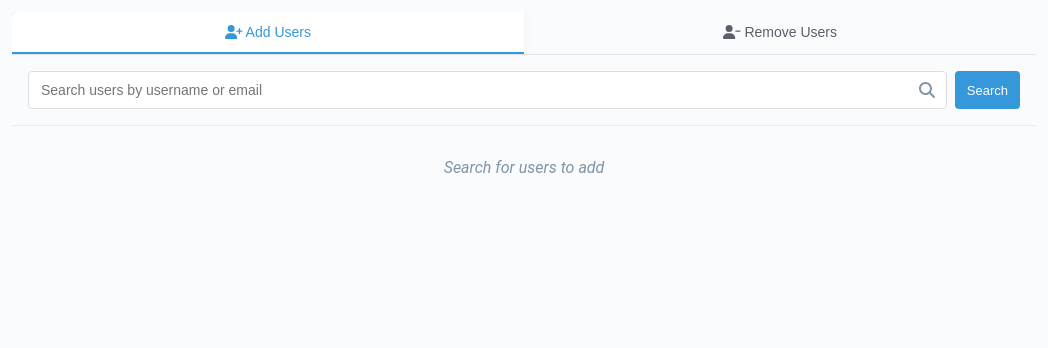
ManageCollaborators Component › shows error message when adding collaborator fails
The image size is (1048, 348).
// Type in search term and submit search
In the field with placeholder "Search users by username or email": (487, 90) [28,71,947,109], type "test"
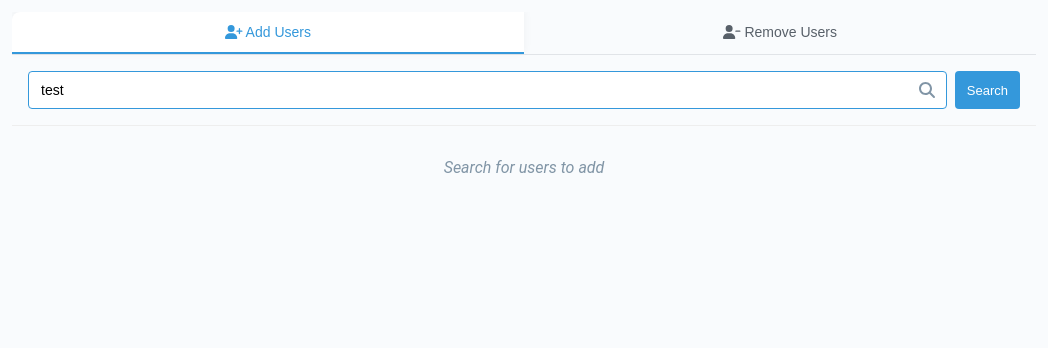
Click the button "Search": (987, 90) [955,71,1020,109]
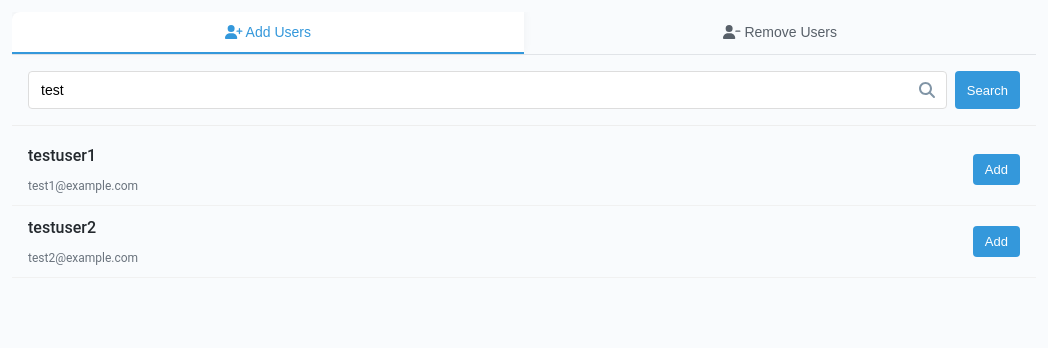
Expected: the text "testuser1" is shown, [28,146,96,165]
// Click add button
Click the button "Add" in the row of "test1@example.com": (996, 170) [973,154,1020,185]
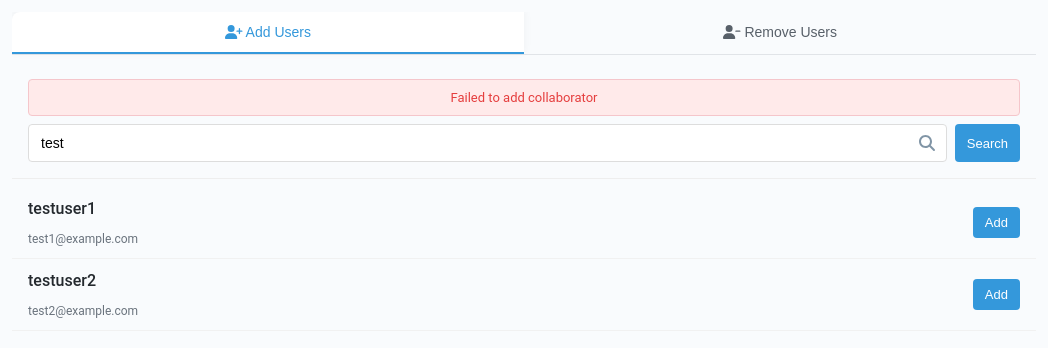
Expected: the text "Failed to add collaborator" is shown, [28,79,1020,116]
